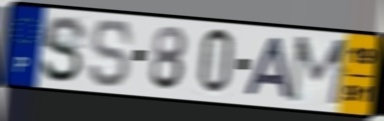0: (196, 26, 238, 100)
8: (147, 24, 189, 93)
A: (241, 35, 295, 102)
M: (284, 34, 353, 109)
S: (38, 13, 90, 85), (88, 17, 135, 90)
